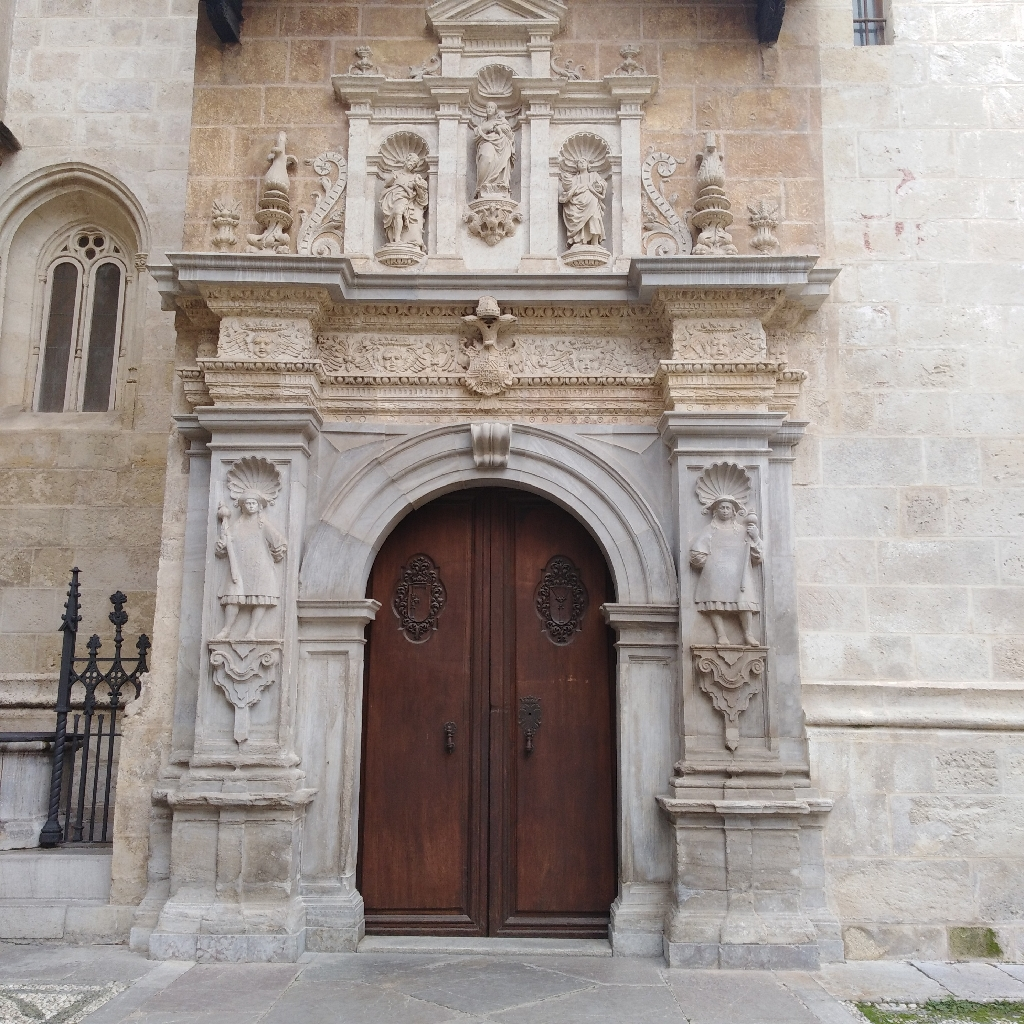arco-apuntado: (6, 159, 147, 277)
arco-medio-punto: (348, 468, 633, 650)
fronton: (430, 1, 559, 31)
